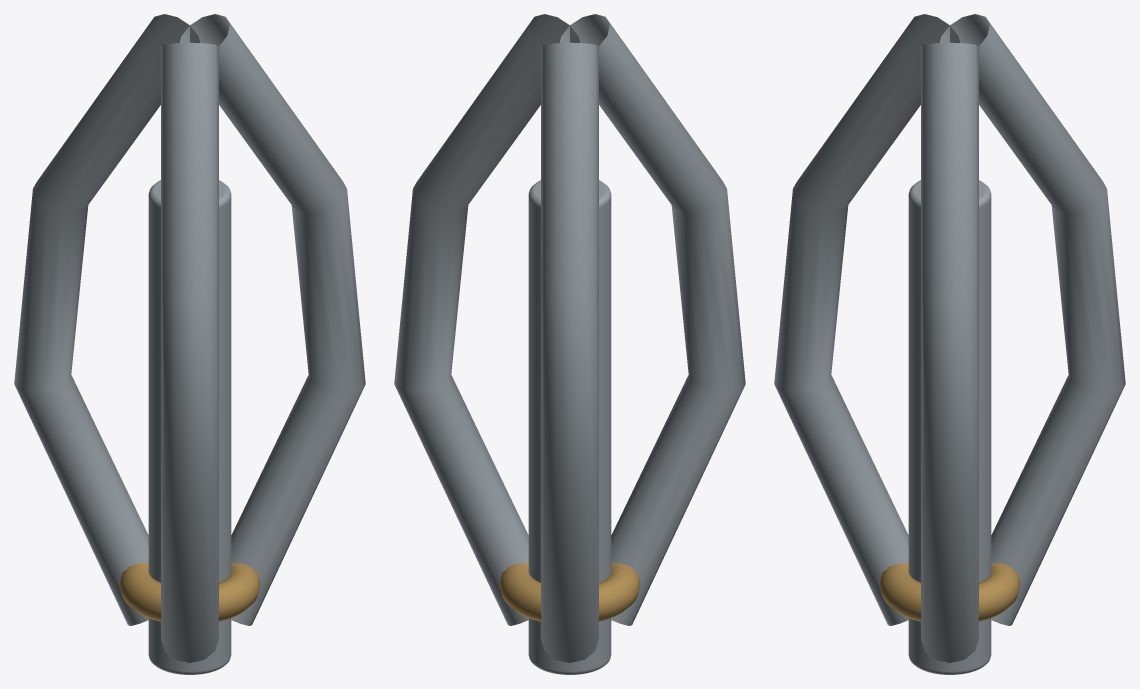
File: hookshot_head.glb
3 views of the same model, side by side, from view 1: azimuth 30°, elevation 25°; view 2: azimuth 150°, elevation 25°; view 3: azimuth 270°, elevation 25° (orthographic).
Parts seen in each view (by area): view 1: Swept grappling talon.002, Swept grappling talon.001, Swept grappling talon, Hook shaft, Hook retaining collar; view 2: Swept grappling talon.001, Swept grappling talon, Swept grappling talon.002, Hook shaft, Hook retaining collar; view 3: Swept grappling talon, Swept grappling talon.002, Swept grappling talon.001, Hook shaft, Hook retaining collar.
Boxes of the visible parts, left/top/right/bottom form: Swept grappling talon.002: left=161, top=42, right=218, bottom=662; Swept grappling talon.001: left=14, top=14, right=199, bottom=625; Swept grappling talon: left=180, top=14, right=365, bottom=625; Hook shaft: left=148, top=180, right=231, bottom=674; Hook retaining collar: left=119, top=563, right=260, bottom=621; Swept grappling talon.001: left=541, top=42, right=598, bottom=662; Swept grappling talon: left=394, top=14, right=579, bottom=625; Swept grappling talon.002: left=560, top=14, right=745, bottom=625; Hook shaft: left=528, top=180, right=611, bottom=674; Hook retaining collar: left=499, top=563, right=640, bottom=621; Swept grappling talon: left=921, top=42, right=978, bottom=662; Swept grappling talon.002: left=774, top=14, right=959, bottom=625; Swept grappling talon.001: left=940, top=14, right=1125, bottom=625; Hook shaft: left=908, top=180, right=991, bottom=674; Hook retaining collar: left=879, top=563, right=1020, bottom=621.
Size of the model in its own units: 0.1506 by 0.3375 by 0.1696.
